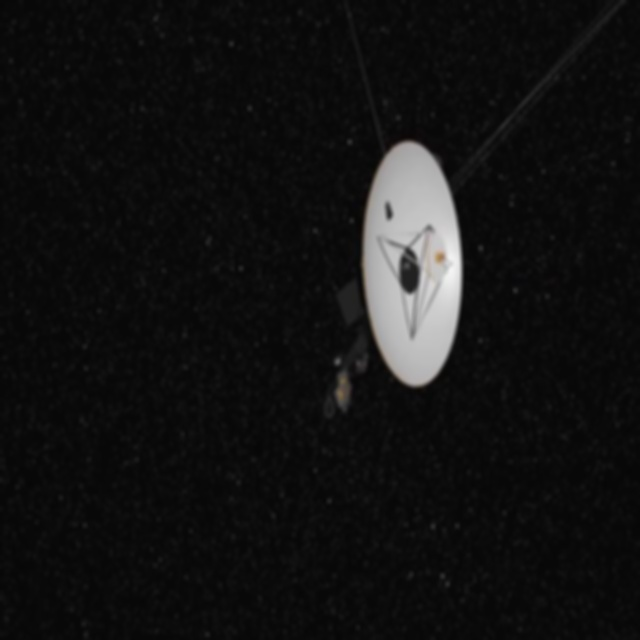medium_debris: (291, 90, 493, 450)
